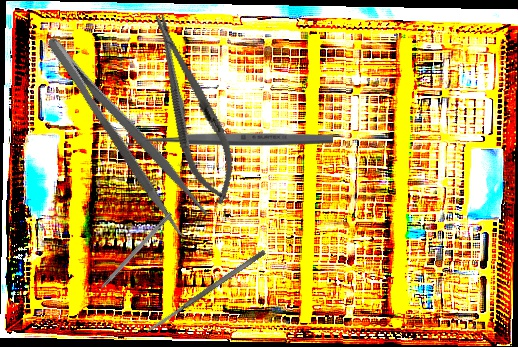Dressing Forceps: (41, 22, 211, 239)
Hook Surgical: (86, 211, 174, 303)
Needle Holder: (136, 4, 249, 212)
Spatula Surgical: (145, 248, 267, 335)
Surgical Spoon: (126, 132, 333, 146)
